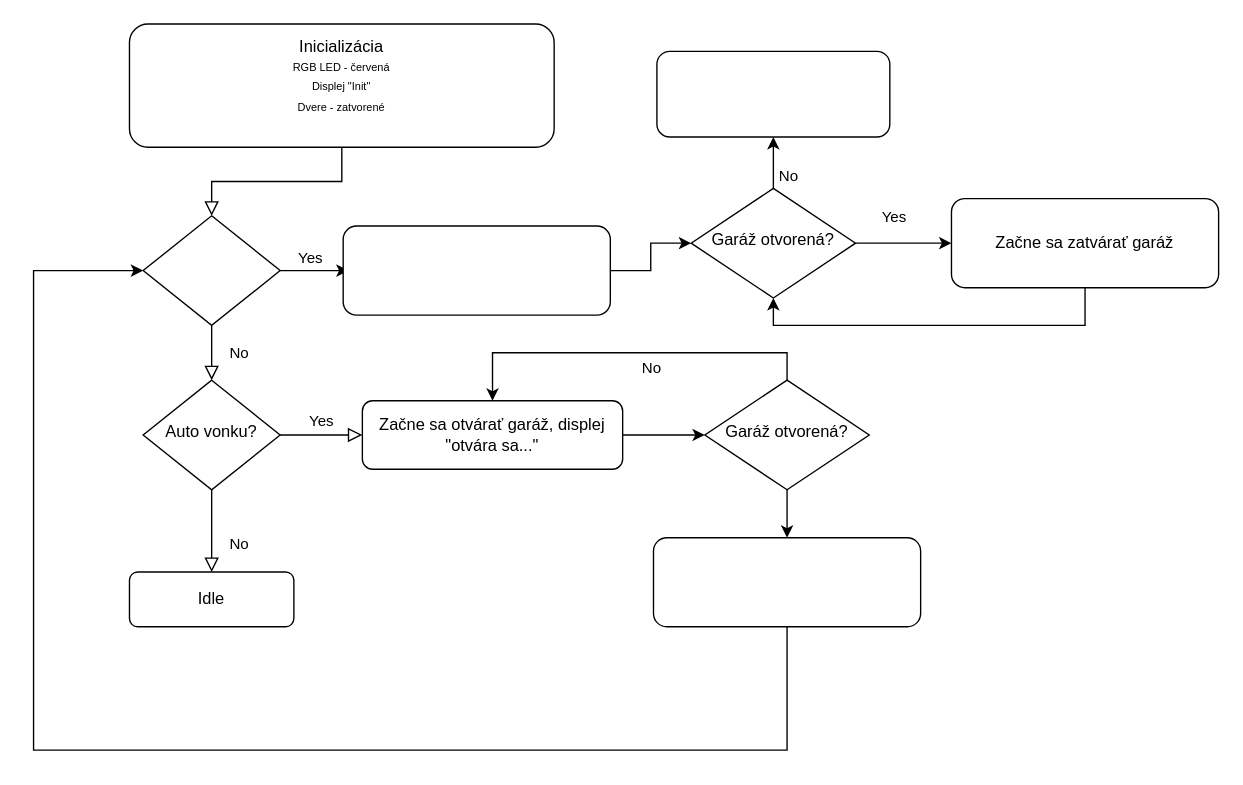
Some shapes in this 1243 by 785 pixel diagram are drawn without their labels. The shapes that lost their labels are listed below. From the top down, each one's centre as x and y in pixels, then its label:
pixel 773 93: Garáž sa otvorí/zatvorí len na tlačidlo
pixel 211 269: Auto vnútri?
pixel 476 270: Displej "Prejazd obsadený", LED červená
pixel 786 581: Displej "Prejazd voľný", LED zelená
